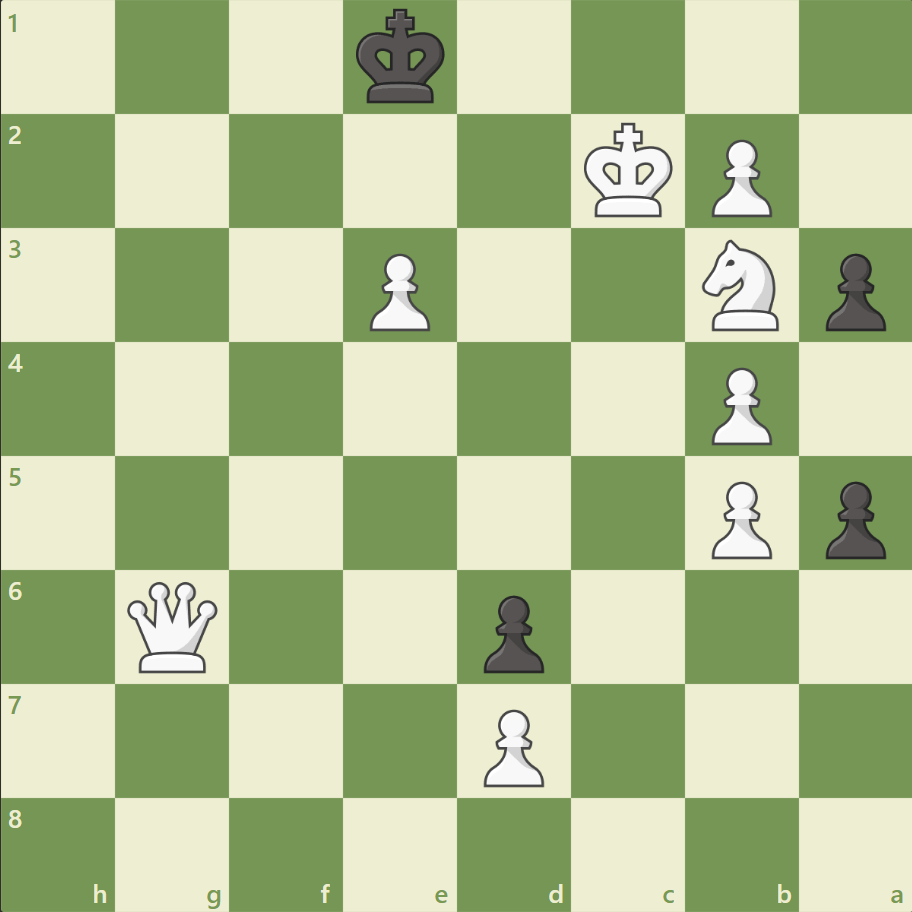K: (579, 117, 679, 225)
N: (692, 234, 789, 337)
P: (474, 700, 549, 791), (701, 473, 776, 564), (701, 359, 776, 450), (701, 132, 776, 223), (361, 246, 435, 337)
Q: (124, 576, 223, 676)
k: (351, 4, 451, 112)
p: (474, 586, 549, 677), (815, 473, 889, 564), (815, 246, 889, 337)
